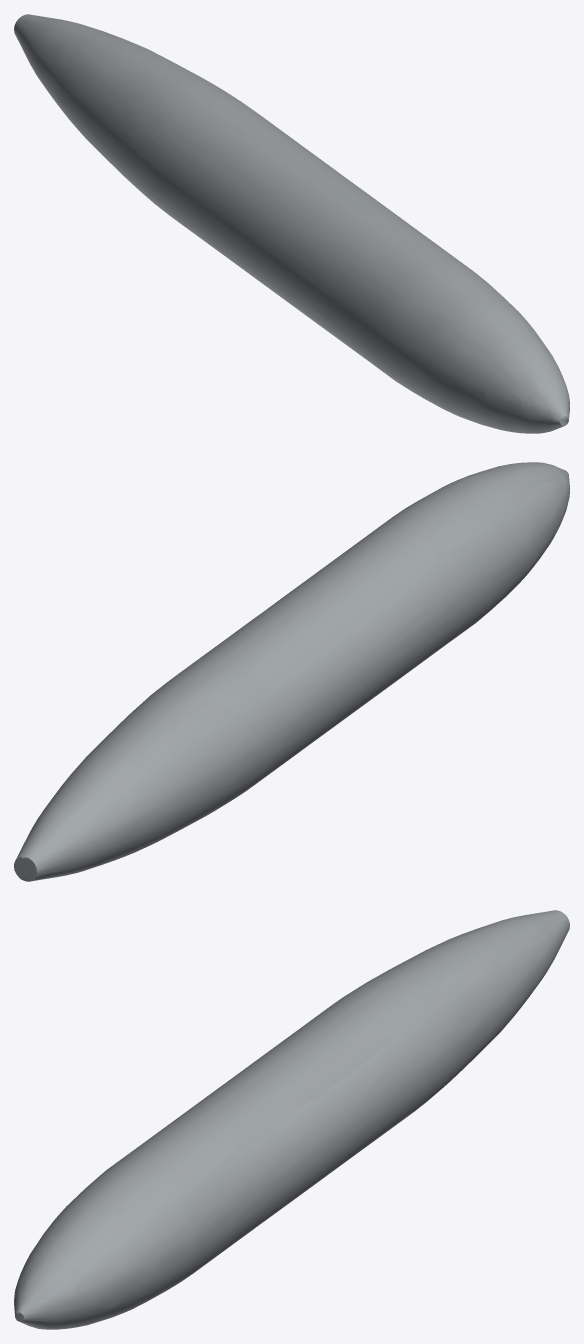
The model's file is j10tank800l.glb.
The picture shows the model from 3 angles, top to bottom: view 1: azimuth 30°, elevation 25°; view 2: azimuth 150°, elevation 25°; view 3: azimuth 330°, elevation 25°; orthographic projection.
Parts seen in each view (by area): view 1: airframe; view 2: airframe; view 3: airframe.
Part boxes in pixels (bbox=[...]): airframe: bbox=[14, 14, 569, 433]; airframe: bbox=[14, 462, 569, 881]; airframe: bbox=[14, 910, 569, 1329].
Size of the model in its own units: 0.5723 by 0.5722 by 4.58.
1 material, 1 textured.
